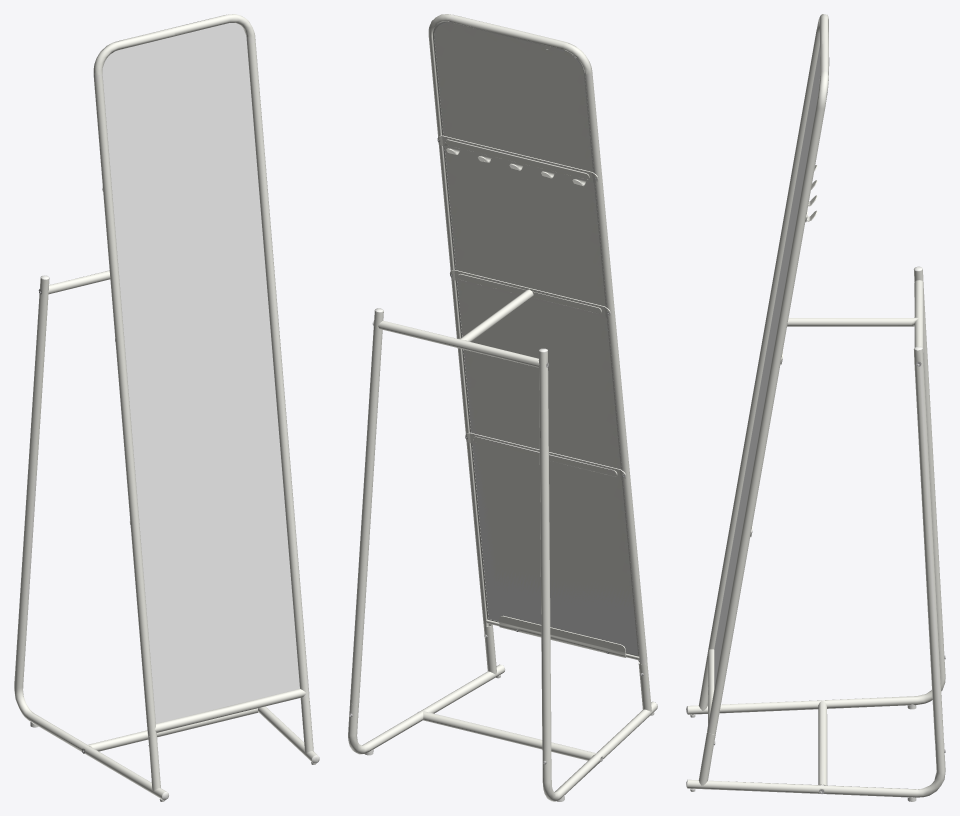
Rendered from knapper_lustro_stojace_00396242.glb.
3 renders of one model, left to right at view 1: azimuth 30°, elevation 25°; view 2: azimuth 150°, elevation 25°; view 3: azimuth 270°, elevation 25°, orthographic.
Parts seen in each view (by area): view 1: knapper_lustro_stojace_00396242; view 2: knapper_lustro_stojace_00396242; view 3: knapper_lustro_stojace_00396242.
Boxes of the visible parts, bbox=[...] form: knapper_lustro_stojace_00396242: bbox=[14, 14, 319, 801]; knapper_lustro_stojace_00396242: bbox=[348, 14, 657, 801]; knapper_lustro_stojace_00396242: bbox=[686, 14, 945, 801].
Bounding box in the file's own units: 0.482 × 1.63 × 0.539.
2 materials, 2 textured.
